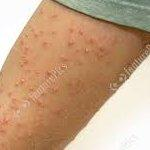Ants: (17, 55, 31, 69), (28, 25, 39, 37), (22, 42, 30, 56), (51, 108, 63, 117), (97, 44, 106, 56), (17, 76, 27, 86), (42, 41, 54, 49), (66, 38, 76, 47), (88, 36, 96, 45), (49, 13, 59, 20), (0, 117, 8, 125), (75, 28, 83, 36), (51, 87, 59, 94), (84, 47, 90, 53), (29, 87, 34, 91)
